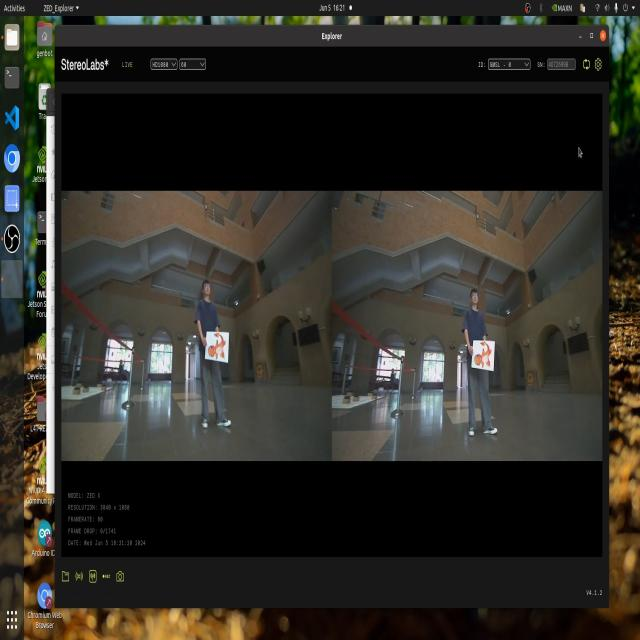red: (467, 334, 498, 379), (207, 328, 235, 358)
